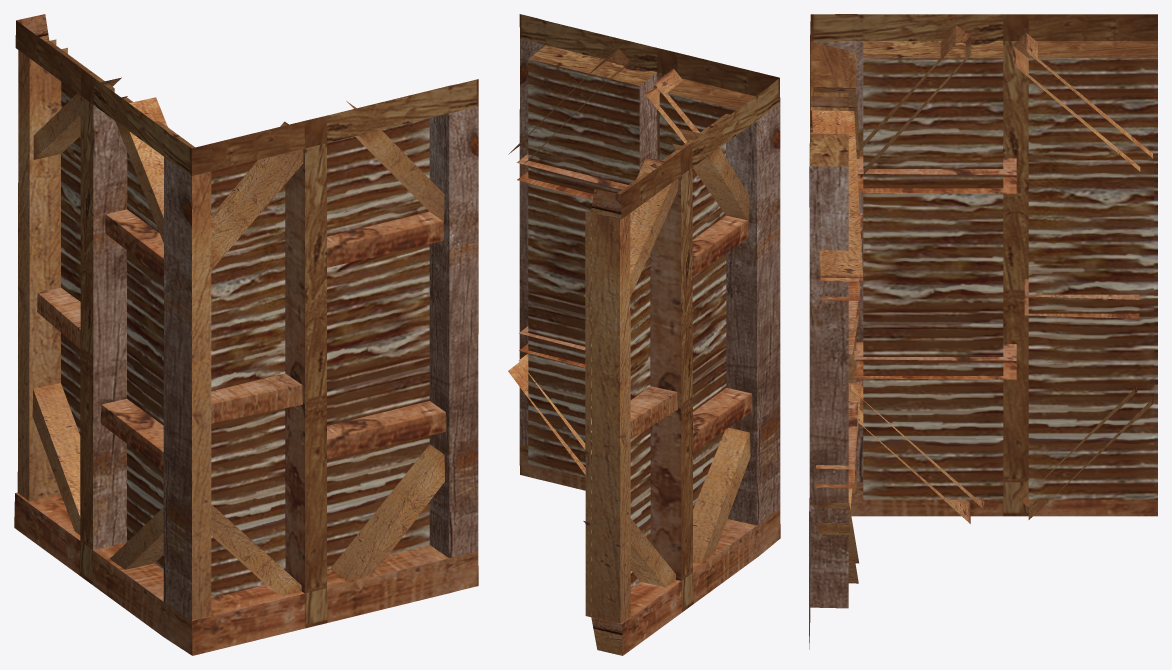
File: SP_corner.fbx
The picture shows the model from 3 angles, left to right: view 1: azimuth 30°, elevation 25°; view 2: azimuth 150°, elevation 25°; view 3: azimuth 270°, elevation 25°; orthographic projection. The views are drawn at different scales.
Parts seen in each view (by area): view 1: SP_Corner; view 2: SP_Corner; view 3: SP_Corner.
Boxes of the visible parts, x1,y1,x2,y2 form: SP_Corner: (14,14,478,655); SP_Corner: (508,14,780,655); SP_Corner: (809,14,1157,649).
Bounding box in the file's own units: 178 × 299 × 188.
